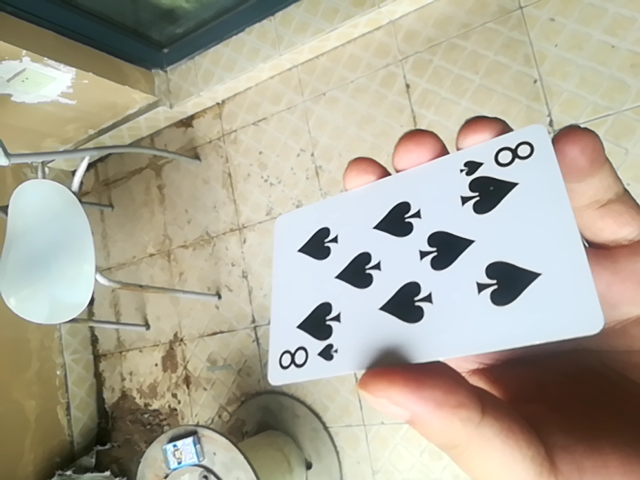ht 8: (262, 124, 603, 390)
